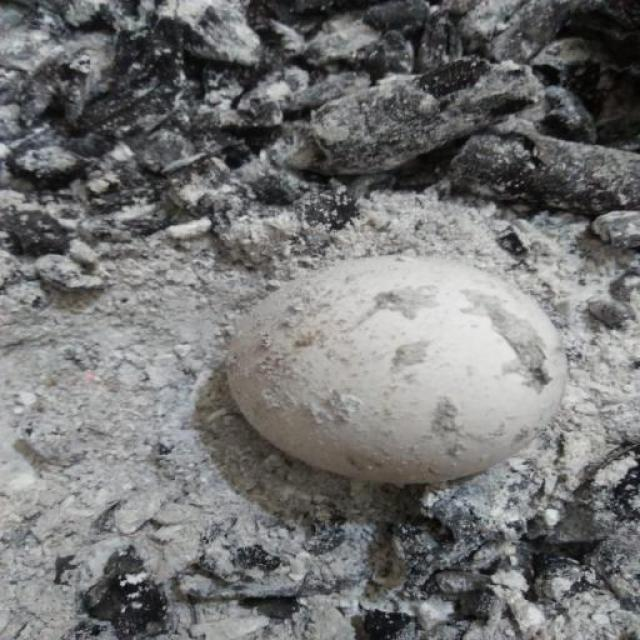telur: (226, 253, 567, 485)
